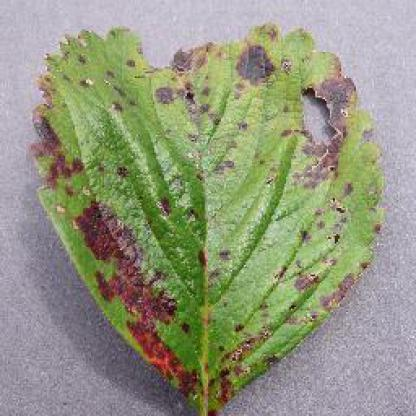leaf scorch: (24, 16, 398, 414)
